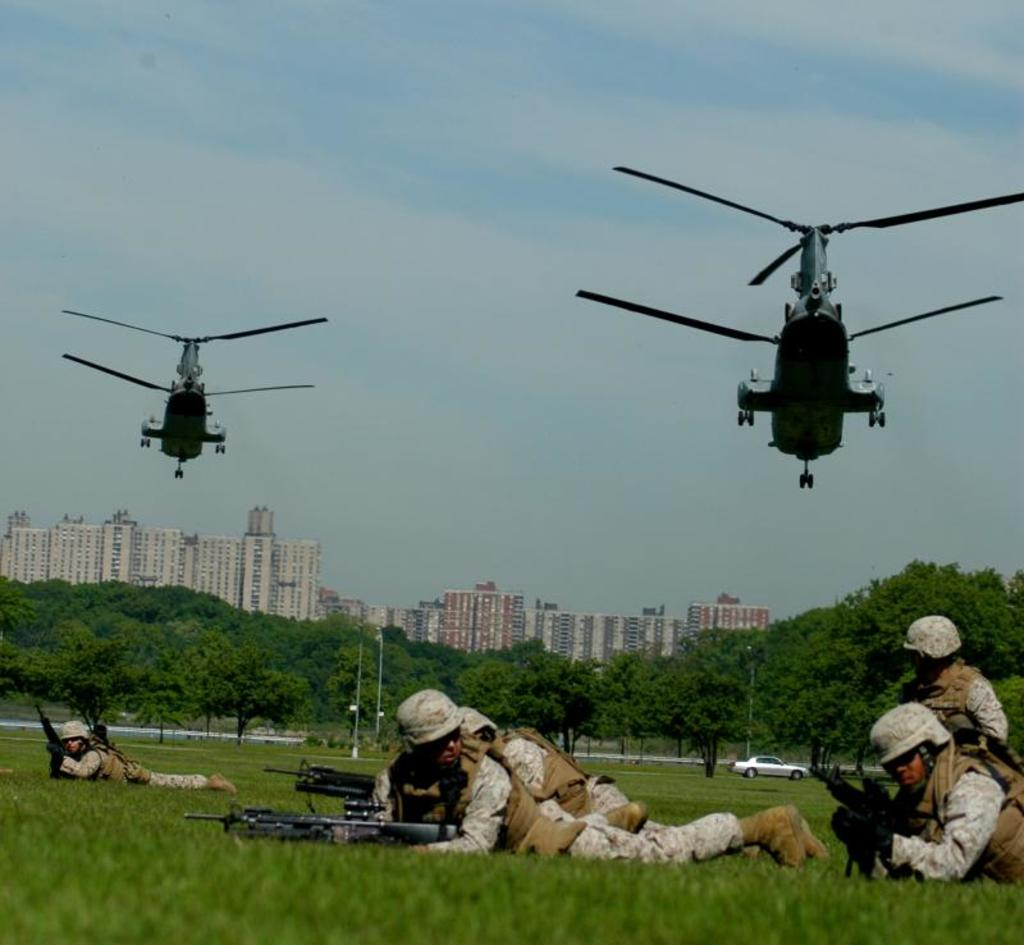Person: (33, 614, 1023, 944)
